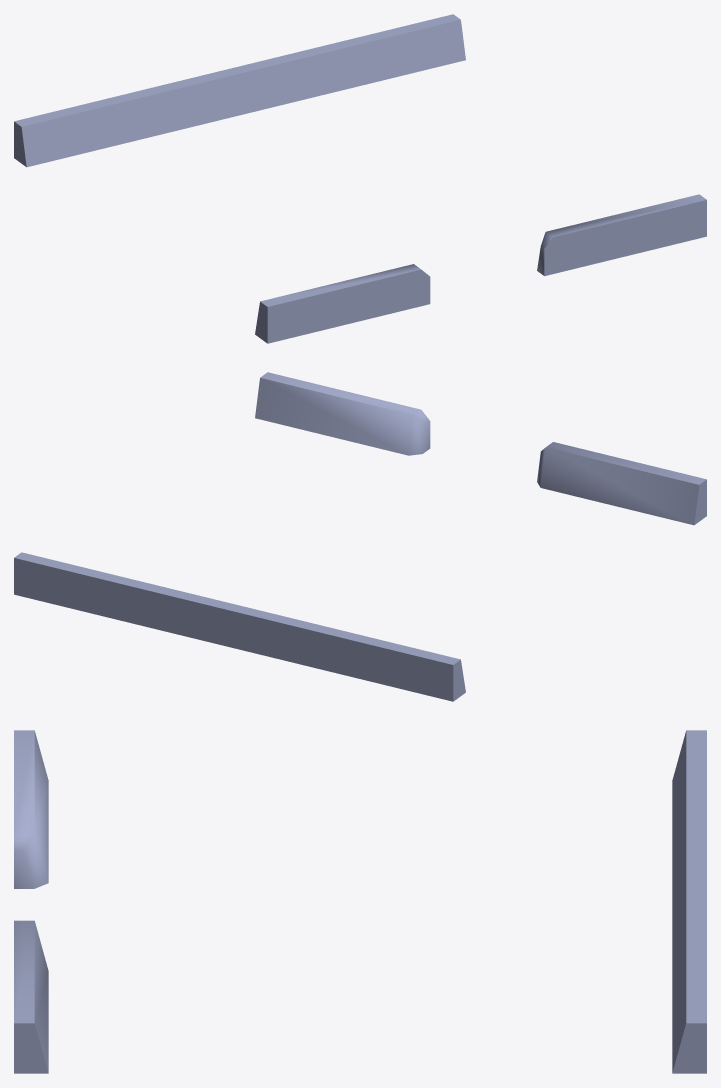
The model's file is road-driveway-single-barrier.glb.
3 views of the same model, one above another, from view 1: azimuth 30°, elevation 25°; view 2: azimuth 150°, elevation 25°; view 3: azimuth 270°, elevation 25° (orthographic). The views are drawn at different scales.
Visible parts, largest first — view 1: road-driveway-single-barrier; view 2: road-driveway-single-barrier; view 3: road-driveway-single-barrier.
Boxes of the visible parts, x1=… form: road-driveway-single-barrier: x1=14, y1=14, x2=706, y2=343; road-driveway-single-barrier: x1=14, y1=372, x2=706, y2=701; road-driveway-single-barrier: x1=14, y1=730, x2=706, y2=1073.
Size of the model in its own units: 1 by 0.08 by 1.
1 material, 1 textured.
